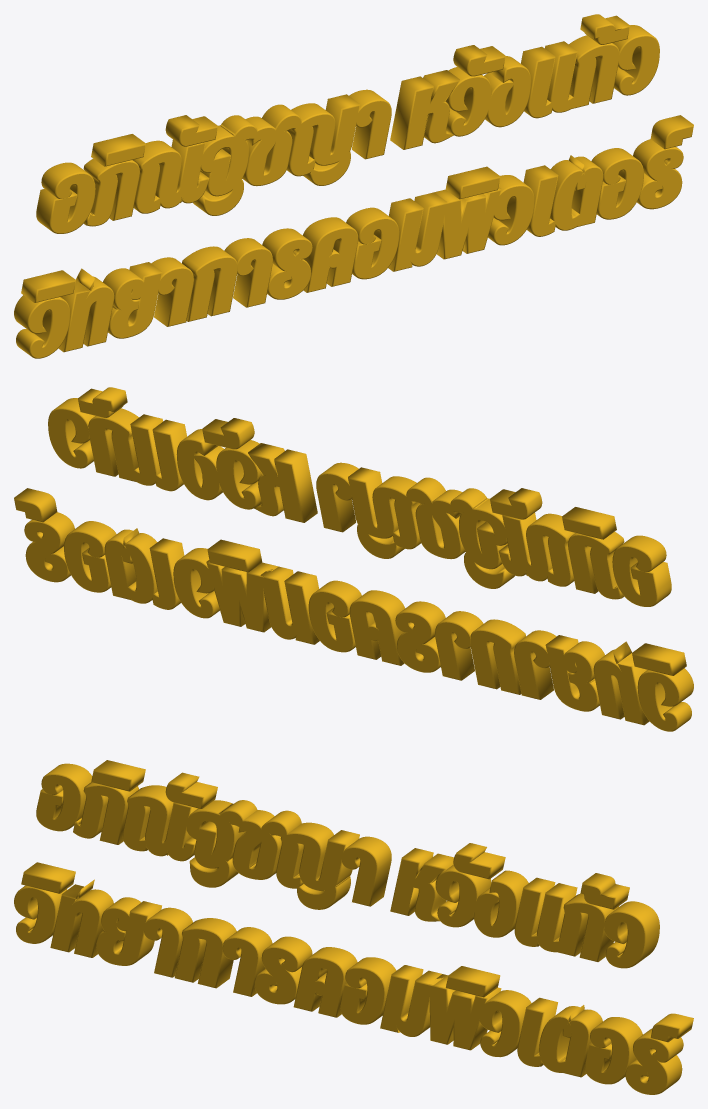
The picture shows the model from 3 angles, top to bottom: view 1: azimuth 30°, elevation 25°; view 2: azimuth 150°, elevation 25°; view 3: azimuth 330°, elevation 25°; orthographic projection.
Parts seen in each view (by area): view 1: Text; view 2: Text; view 3: Text.
Boxes of the visible parts, <box> form: Text: <box>14,14,693,358</box>; Text: <box>14,387,693,731</box>; Text: <box>14,760,693,1094</box>.
Size of the model in its own units: 3.8 by 1.07 by 0.143.
